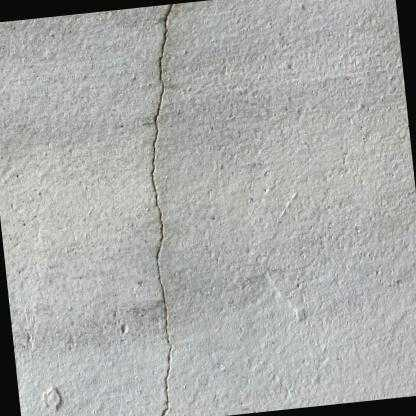crack: (150, 3, 173, 416)
